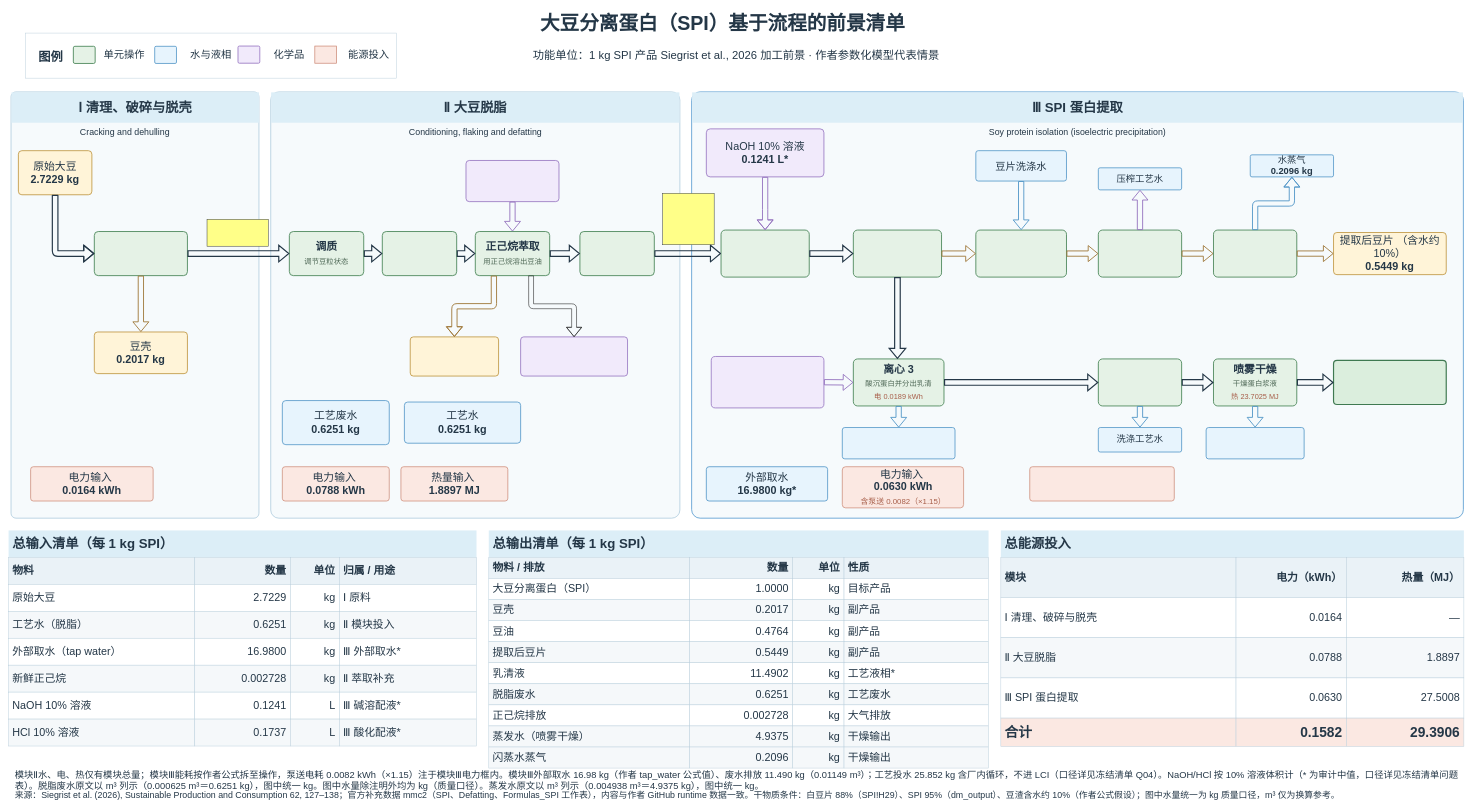
Some shapes in this 1472 by 810 pixel diagram are drawn without their labels. Here are the shapes that lost their labels. From the top down, the centre of each, then its label:
At point (512, 181): "新鲜正己烷 0.002728 kg".
At point (237, 232): "去壳大豆 2.5212 kg".
At point (688, 219): "白豆片 干物质 88% 1.9852 kg".
At point (141, 253): "清理、破碎与脱壳 除杂、去除豆壳".
At point (419, 253): "压片 压薄以利萃取".
At point (616, 253): "脱溶 去除残留溶剂".
At point (764, 253): "浸泡 / 碱溶 碱溶大豆蛋白 热 3.0438 MJ".
At point (897, 253): "离心 1 分出蛋白提取液 电 0.0201 kWh".
At point (1021, 253): "离心 2 洗涤湿豆片并回水 电 0.001257 kWh".
At point (1140, 253): "压榨 压出湿豆片中的水 电 0.000777 kWh".
At point (1255, 253): "闪蒸干燥 干燥脱蛋白豆片 热 0.7545 MJ".
At point (454, 356): "豆油 0.4764 kg".
At point (574, 356): "正己烷排放 0.002728 kg".
At point (767, 382): "HCl 10% 溶液 0.1737 L*".
At point (1140, 382): "离心 4 洗涤蛋白沉淀 电 0.0138 kWh".
At point (1390, 382): "大豆分离蛋白（SPI） 干物质 95% 1.0000 kg".
At point (898, 443): "乳清水相 11.4902 kg*".
At point (1254, 443): "蒸发水 4.9375 kg".
At point (1101, 483): "热量输入 27.5008 MJ".
